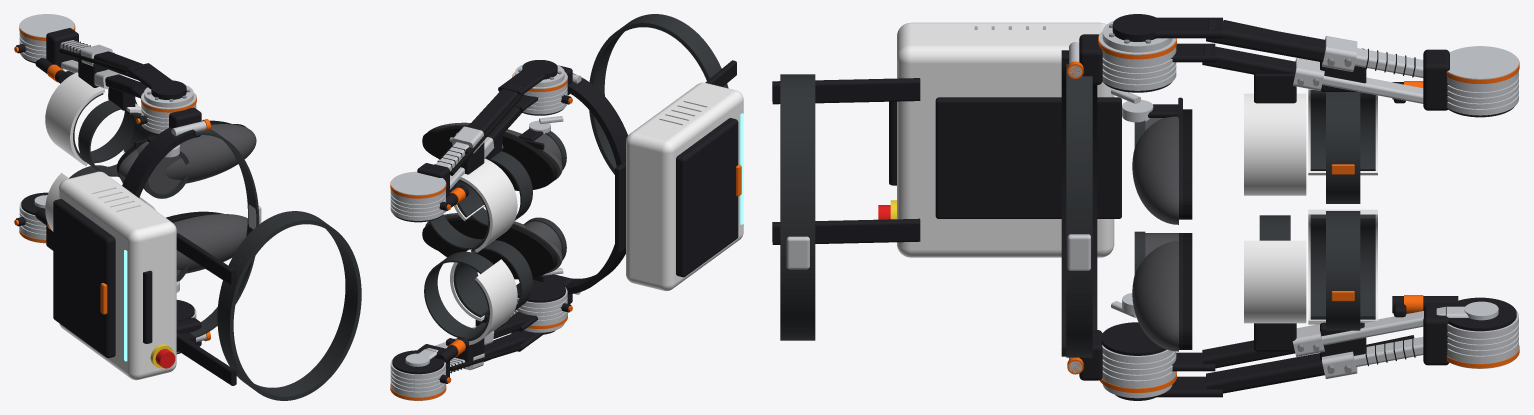
The model's file is volition.glb.
The picture shows the model from 3 angles, left to right: view 1: azimuth 30°, elevation 25°; view 2: azimuth 150°, elevation 25°; view 3: azimuth 270°, elevation 25°; orthographic projection. The views are drawn at different scales.
Visible parts, largest first — view 1: pelvis__carbon, pelvis__shell, pelvis__pad, foot_L__fabric, thigh_L__carbon, foot_R__fabric, thigh_L__alu, thigh_L__shell, shank_L__pad, pelvis__alu, shank_L__carbon, thigh_L__pad (+8 smaller); view 2: pelvis__carbon, pelvis__shell, thigh_L__alu, pelvis__pad, thigh_L__carbon, foot_R__rubber, thigh_L__shell, foot_L__rubber, shank_R__pad, thigh_R__pad, thigh_R__carbon, pelvis__alu (+18 smaller); view 3: pelvis__carbon, pelvis__shell, pelvis__pad, thigh_L__carbon, thigh_R__carbon, pelvis__alu, thigh_L__alu, thigh_R__pad, thigh_L__pad, shank_L__shell, shank_R__shell, thigh_R__alu (+16 smaller).
Part boxes in pixels (bbox=[...]): pelvis__carbon: bbox=[53, 107, 236, 385]; pelvis__shell: bbox=[59, 171, 176, 380]; pelvis__pad: bbox=[190, 129, 361, 400]; foot_L__fabric: bbox=[119, 124, 256, 193]; thigh_L__carbon: bbox=[15, 28, 186, 99]; foot_R__fabric: bbox=[173, 214, 247, 275]; thigh_L__alu: bbox=[19, 14, 193, 107]; thigh_L__shell: bbox=[45, 72, 104, 166]; shank_L__pad: bbox=[78, 100, 152, 176]; pelvis__alu: bbox=[141, 92, 261, 342]; shank_L__carbon: bbox=[35, 58, 147, 110]; thigh_L__pad: bbox=[73, 93, 137, 163]; pelvis__carbon: bbox=[516, 60, 738, 312]; pelvis__shell: bbox=[626, 82, 743, 291]; thigh_L__alu: bbox=[390, 64, 564, 220]; pelvis__pad: bbox=[589, 14, 728, 174]; thigh_L__carbon: bbox=[393, 60, 557, 222]; foot_R__rubber: bbox=[422, 217, 556, 279]; thigh_L__shell: bbox=[460, 158, 517, 252]; foot_L__rubber: bbox=[422, 126, 556, 190]; shank_R__pad: bbox=[453, 240, 532, 317]; thigh_R__pad: bbox=[424, 251, 493, 341]; thigh_R__carbon: bbox=[392, 330, 555, 383]; pelvis__alu: bbox=[512, 72, 581, 329]; pelvis__carbon: bbox=[772, 34, 1171, 380]; pelvis__shell: bbox=[897, 22, 1114, 257]; pelvis__pad: bbox=[780, 64, 1092, 357]; thigh_L__carbon: bbox=[1112, 14, 1514, 117]; thigh_R__carbon: bbox=[1115, 297, 1516, 400]; pelvis__alu: bbox=[786, 31, 1176, 393]; thigh_L__alu: bbox=[1102, 20, 1518, 115]; thigh_R__pad: bbox=[1310, 211, 1375, 330]; thigh_L__pad: bbox=[1310, 90, 1375, 203]; shank_L__shell: bbox=[1244, 93, 1306, 195]; shank_R__shell: bbox=[1244, 240, 1306, 323]; thigh_R__alu: bbox=[1103, 309, 1518, 398].
Bounding box in the file's own units: 0.49 × 0.5236 × 0.9621.
